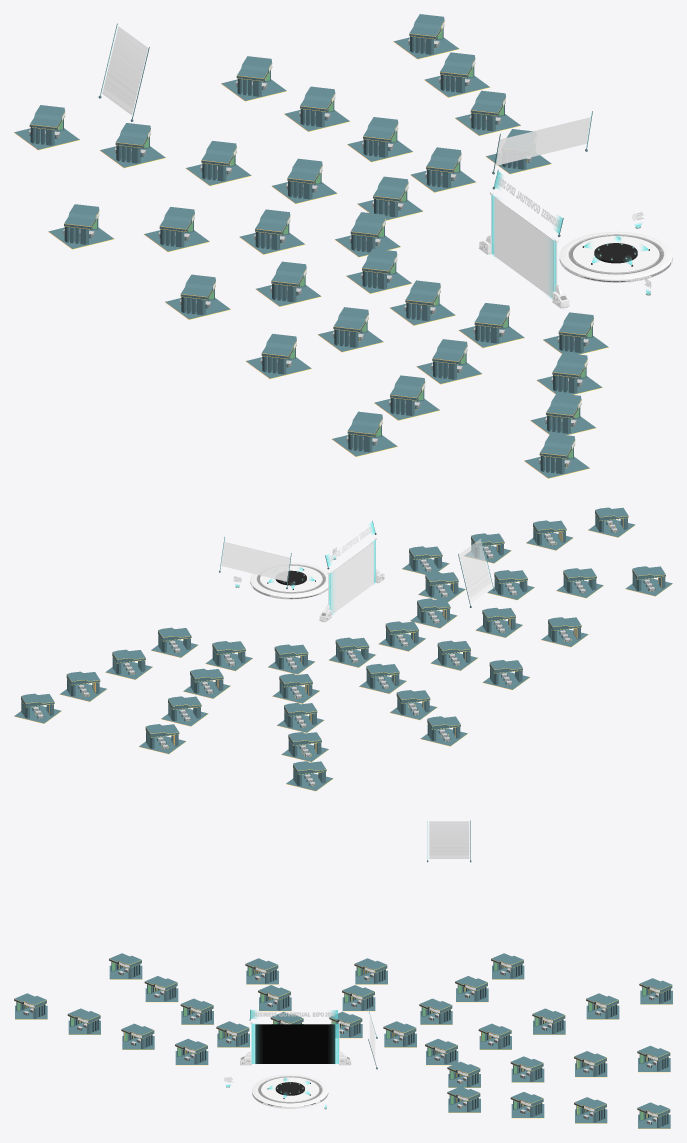
File: clean-v2--1789573115.glb
3 renders of one model, top to bottom at view 1: azimuth 30°, elevation 25°; view 2: azimuth 150°, elevation 25°; view 3: azimuth 270°, elevation 25°, orthographic. The views are drawn at different scales.
Parts seen in each view (by area): view 1: Plane080_3 (×30), Cube020, Plane054, bigPoster, bigPoster001, Plane080, Cube239, Cube240; view 2: Plane080_3 (×30), Plane054, Cube020, bigPoster001, bigPoster, Plane080; view 3: Plane080_3 (×29), Plane055, Cube020, bigPoster, Plane080, Cube240.
Part boxes in pixels (left/top/right/bottom): Plane080_3 (×30): left=14, top=14, right=608, bottom=456; Cube020: left=559, top=231, right=672, bottom=282; Plane054: left=494, top=197, right=553, bottom=298; bigPoster: left=102, top=26, right=147, bottom=115; bigPoster001: left=495, top=117, right=590, bottom=165; Plane080: left=524, top=433, right=589, bottom=478; Cube239: left=594, top=243, right=637, bottom=263; Cube240: left=491, top=195, right=556, bottom=298; Plane080_3 (×30): left=14, top=520, right=672, bottom=790; Plane054: left=330, top=541, right=373, bottom=614; Cube020: left=250, top=562, right=330, bottom=599; bigPoster001: left=221, top=542, right=289, bottom=581; bigPoster: left=459, top=539, right=492, bottom=602; Plane080: left=588, top=507, right=635, bottom=537; Plane080_3 (×29): left=67, top=953, right=672, bottom=1128; Plane055: left=255, top=1024, right=335, bottom=1063; Cube020: left=252, top=1074, right=328, bottom=1108; bigPoster: left=429, top=821, right=469, bottom=858; Plane080: left=14, top=993, right=47, bottom=1019; Cube240: left=251, top=1023, right=338, bottom=1063.
Size of what is drawn, in the model's own units: 78.4 by 34.86 by 134.
Materials: 11 (4 with a texture image).
